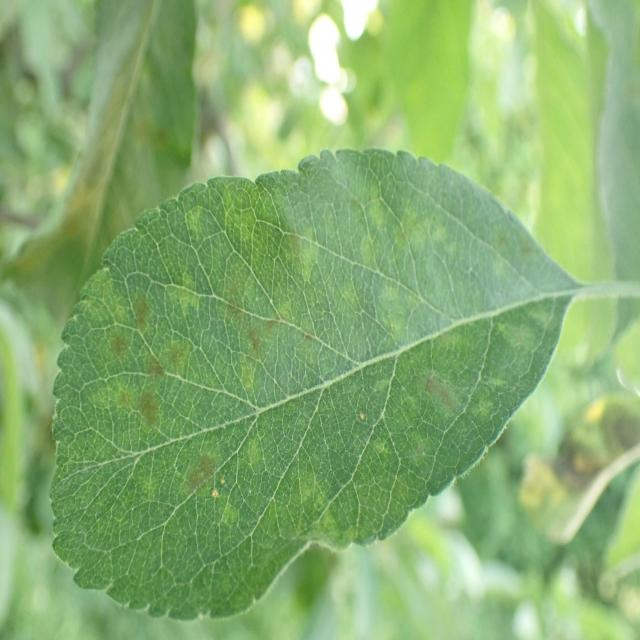scab: (60, 192, 560, 530)
